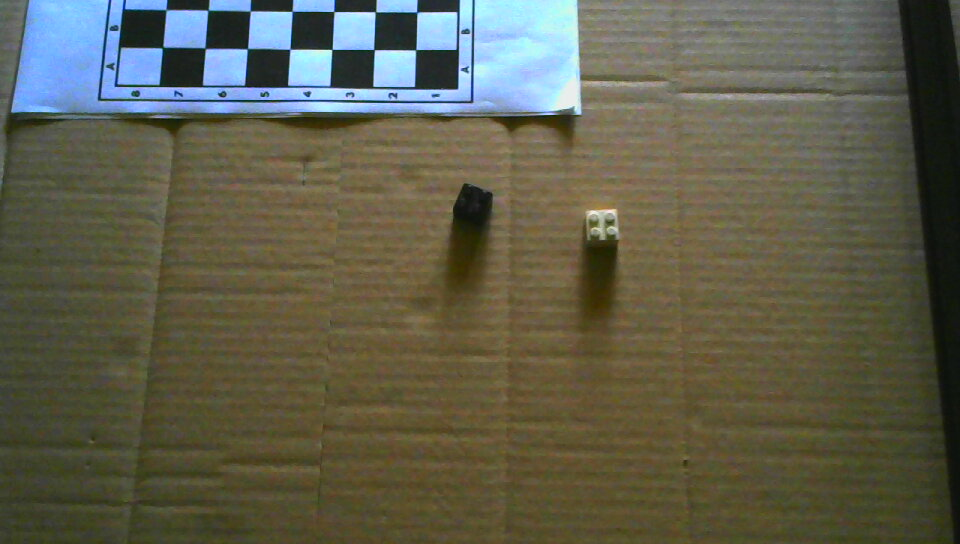bp: (451, 180, 494, 227)
wp: (582, 207, 622, 249)
